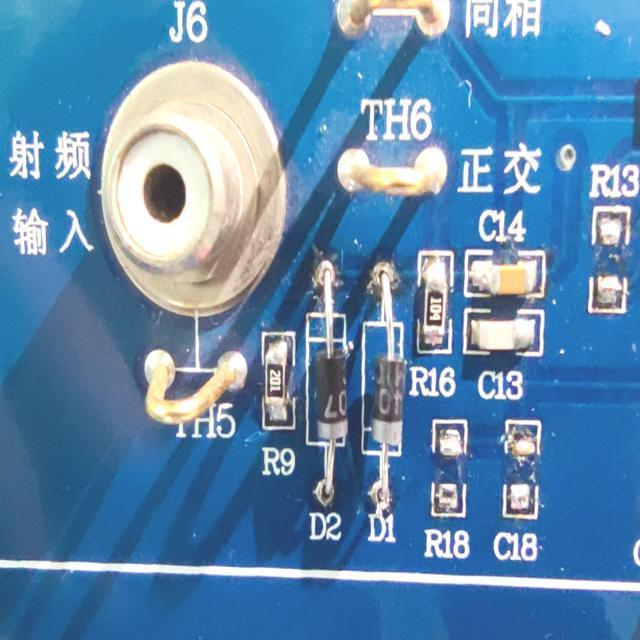Missing component: (586, 156, 640, 325), (490, 410, 545, 573), (424, 407, 472, 569)
